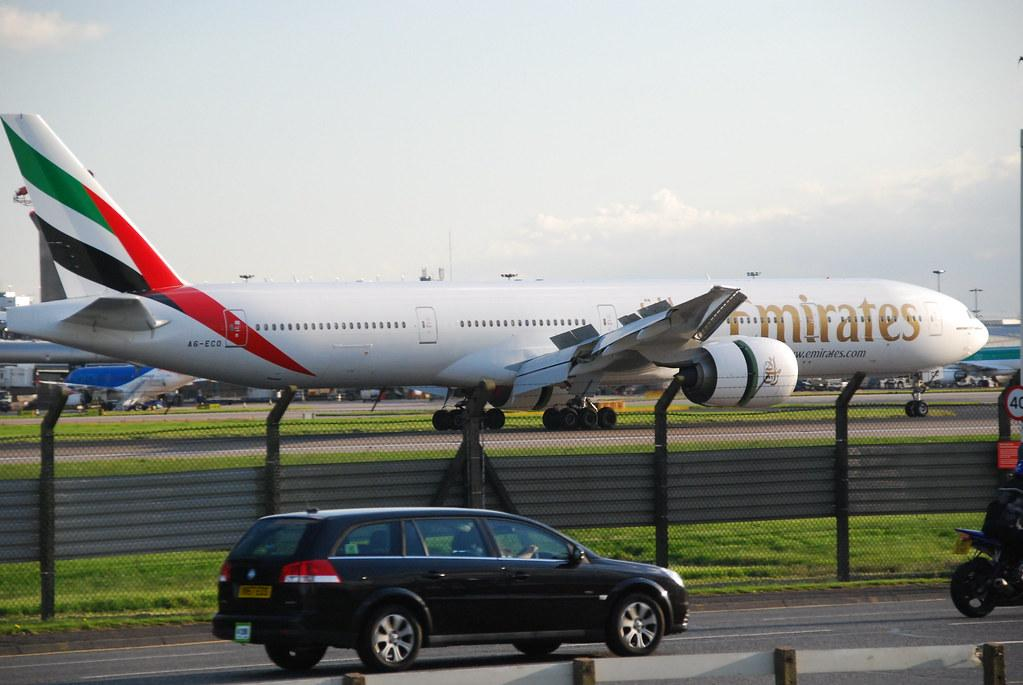plane: (1, 112, 990, 430)
